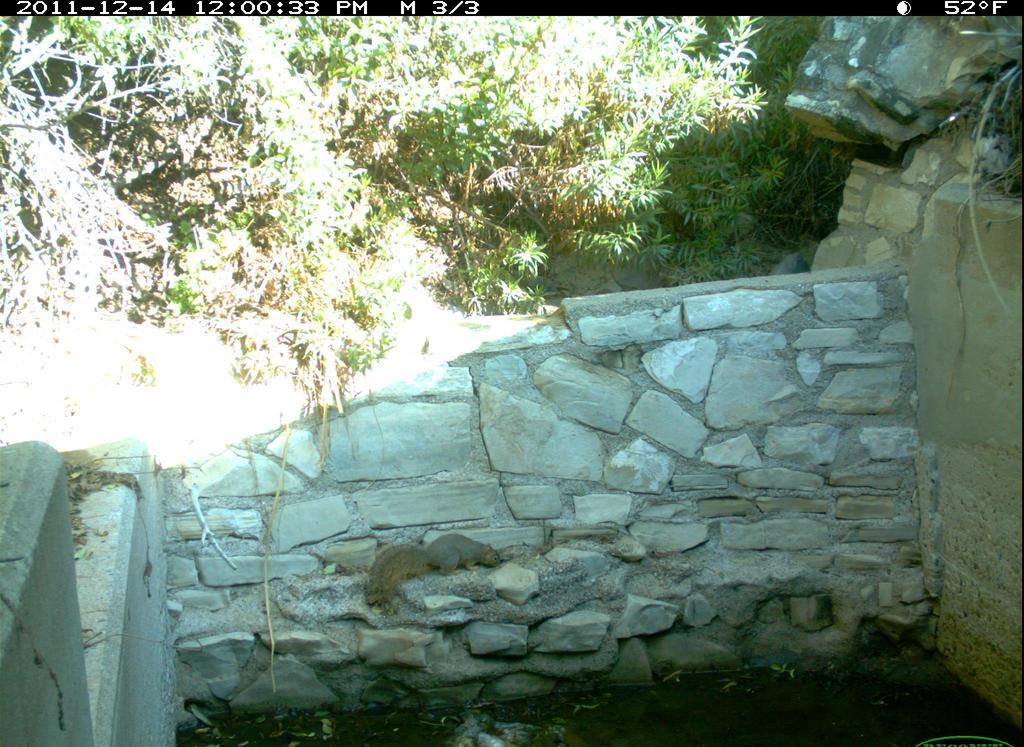squirrel: (361, 530, 511, 614)
